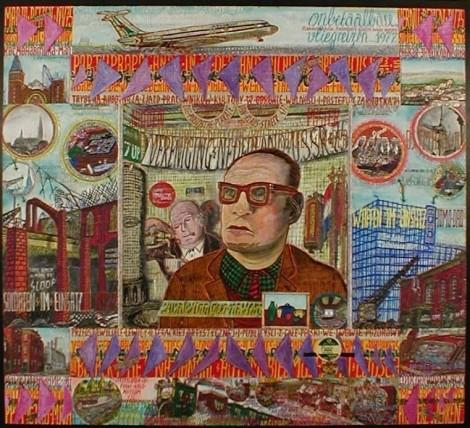person: (174, 154, 349, 332), (163, 195, 235, 268)
